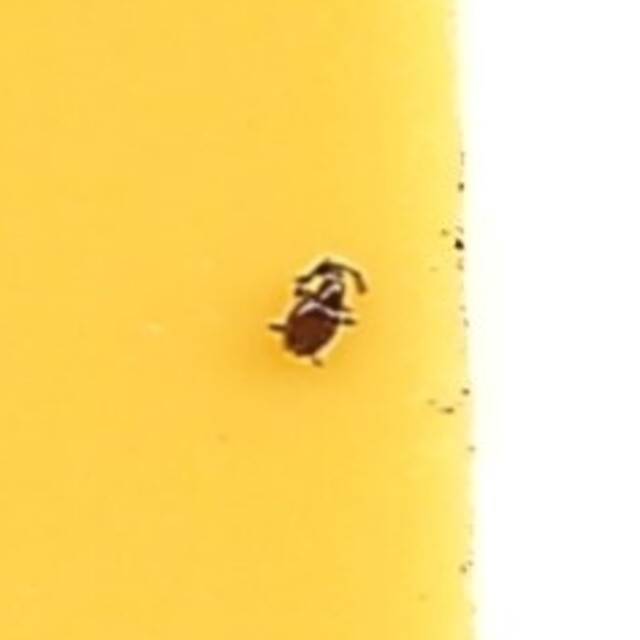Coleoptera: (271, 257, 369, 383)
